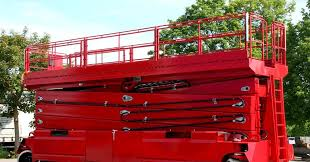Scissor Lift: (16, 9, 296, 162)
